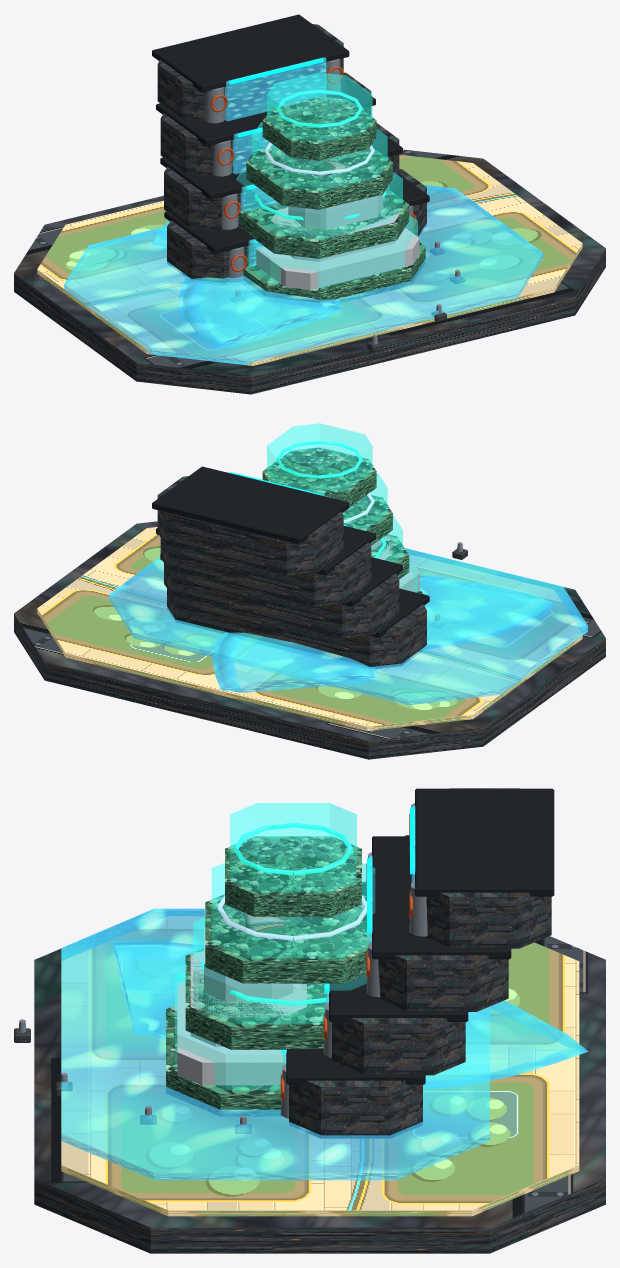
Rendered from interior_setpiece_02_r1_04.glb.
3 renders of one model, top to bottom at view 1: azimuth 30°, elevation 25°; view 2: azimuth 150°, elevation 25°; view 3: azimuth 270°, elevation 25°, orthographic. The views are drawn at different scales.
Visible parts, largest first — view 1: Setpiece02_C04_water_river, Setpiece02_C04_promenade_paving, Setpiece02_C04_cliff_basalt, Setpiece02_C04_biome_canopy, Setpiece02_C04_glass_emerald, Setpiece02_C04_gunmetal, Setpiece02_C04_aero_white, Setpiece02_C04_steel_machined, Setpiece02_C04_led_emerald, Setpiece02_C04_accent_orange, Setpiece02_C04_led_cyan, Setpiece02_C04_led_uv; view 2: Setpiece02_C04_cliff_basalt, Setpiece02_C04_promenade_paving, Setpiece02_C04_water_river, Setpiece02_C04_gunmetal, Setpiece02_C04_glass_emerald, Setpiece02_C04_biome_canopy, Setpiece02_C04_led_emerald, Setpiece02_C04_aero_white; view 3: Setpiece02_C04_promenade_paving, Setpiece02_C04_cliff_basalt, Setpiece02_C04_water_river, Setpiece02_C04_biome_canopy, Setpiece02_C04_glass_emerald, Setpiece02_C04_gunmetal, Setpiece02_C04_aero_white, Setpiece02_C04_steel_machined, Setpiece02_C04_led_emerald, Setpiece02_C04_led_uv, Setpiece02_C04_led_cyan, Setpiece02_C04_copper_bridge.
Boxes of the visible parts, <box> form: Setpiece02_C04_water_river: <box>64,57,543,364</box>; Setpiece02_C04_promenade_paving: <box>37,154,582,365</box>; Setpiece02_C04_cliff_basalt: <box>14,24,605,394</box>; Setpiece02_C04_biome_canopy: <box>238,96,425,302</box>; Setpiece02_C04_glass_emerald: <box>236,72,417,287</box>; Setpiece02_C04_gunmetal: <box>152,14,429,253</box>; Setpiece02_C04_aero_white: <box>254,194,419,289</box>; Setpiece02_C04_steel_machined: <box>204,58,460,344</box>; Setpiece02_C04_led_emerald: <box>254,89,386,220</box>; Setpiece02_C04_accent_orange: <box>210,66,416,271</box>; Setpiece02_C04_led_cyan: <box>229,58,323,242</box>; Setpiece02_C04_led_uv: <box>254,142,374,253</box>; Setpiece02_C04_cliff_basalt: <box>14,476,605,759</box>; Setpiece02_C04_promenade_paving: <box>37,527,582,730</box>; Setpiece02_C04_water_river: <box>109,472,587,705</box>; Setpiece02_C04_gunmetal: <box>152,466,429,637</box>; Setpiece02_C04_glass_emerald: <box>267,423,417,592</box>; Setpiece02_C04_biome_canopy: <box>262,447,425,606</box>; Setpiece02_C04_led_emerald: <box>276,440,386,558</box>; Setpiece02_C04_aero_white: <box>371,536,419,592</box>; Setpiece02_C04_promenade_paving: <box>61,916,579,1216</box>; Setpiece02_C04_cliff_basalt: <box>14,788,605,1253</box>; Setpiece02_C04_water_river: <box>61,806,588,1180</box>; Setpiece02_C04_biome_canopy: <box>166,836,371,1116</box>; Setpiece02_C04_glass_emerald: <box>175,803,375,1089</box>; Setpiece02_C04_gunmetal: <box>286,788,554,1084</box>; Setpiece02_C04_aero_white: <box>177,928,306,1085</box>; Setpiece02_C04_steel_machined: <box>18,803,427,1128</box>; Setpiece02_C04_led_emerald: <box>201,822,352,1005</box>; Setpiece02_C04_led_uv: <box>217,895,366,940</box>; Setpiece02_C04_led_cyan: <box>281,807,414,1053</box>; Setpiece02_C04_copper_bridge: <box>244,914,285,934</box>.
Bounding box in the file's own units: 42 × 17.55 × 33.15.
14 materials, 14 textured.
